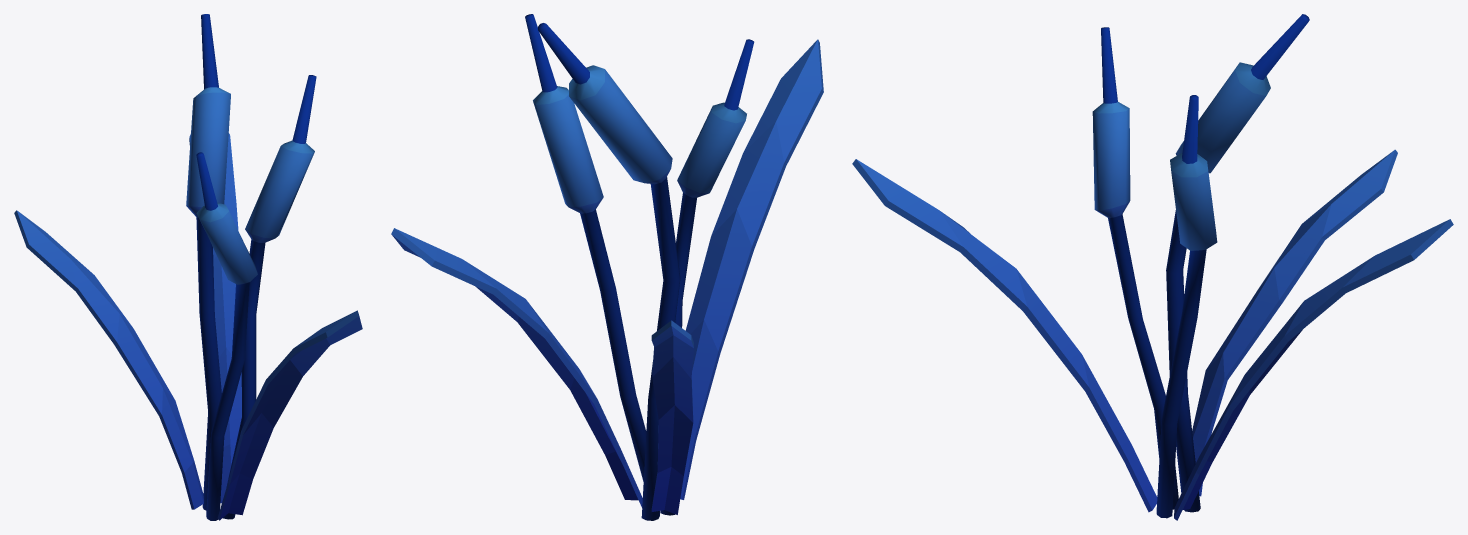
File: Quenouille.fbx
3 renders of one model, left to right at view 1: azimuth 30°, elevation 25°; view 2: azimuth 150°, elevation 25°; view 3: azimuth 270°, elevation 25°, orthographic. The views are drawn at different scales.
Parts seen in each view (by area): view 1: Cube.002; view 2: Cube.002; view 3: Cube.002.
Boxes of the visible parts, x1,y1,x2,y2 form: Cube.002: (14, 14, 362, 520); Cube.002: (391, 14, 823, 520); Cube.002: (852, 14, 1453, 520).
Bounding box in the file's own units: 482 × 925 × 966.
